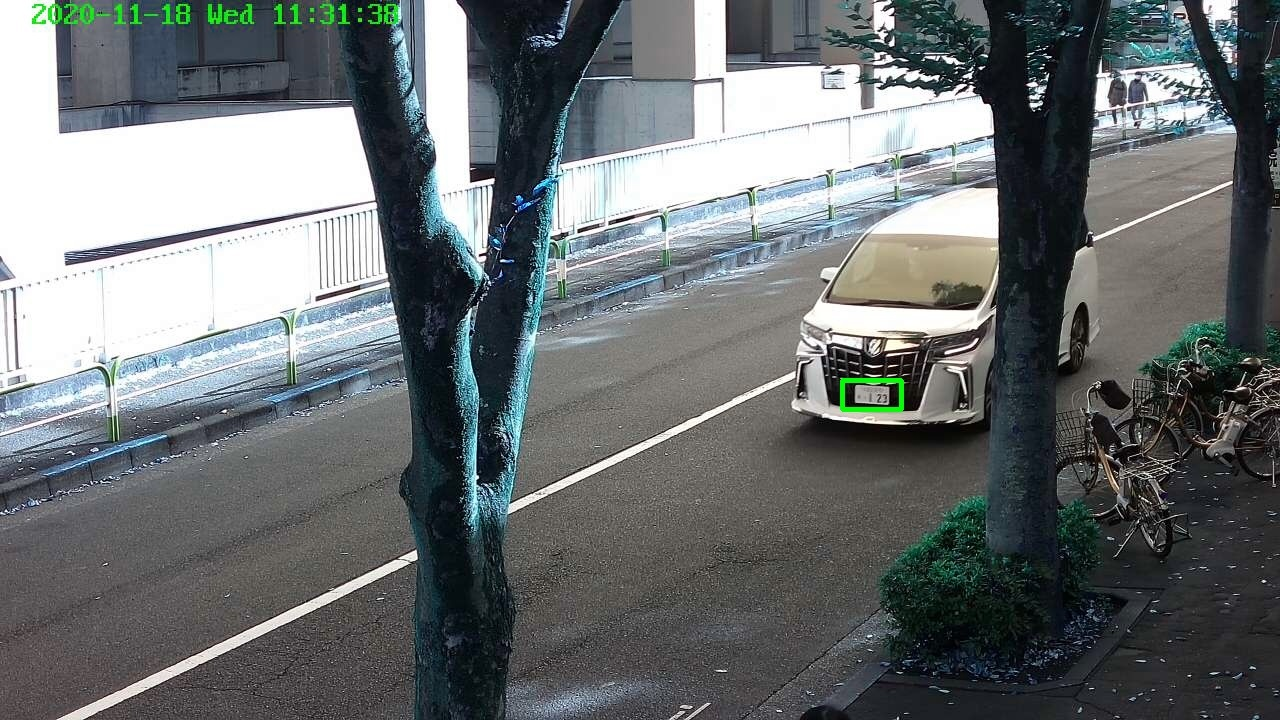number_plate: (852, 383, 892, 407)
